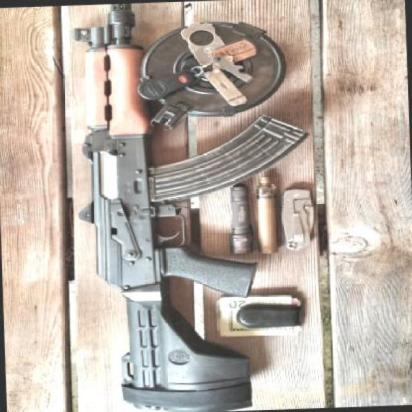Gun: (52, 0, 330, 412)
